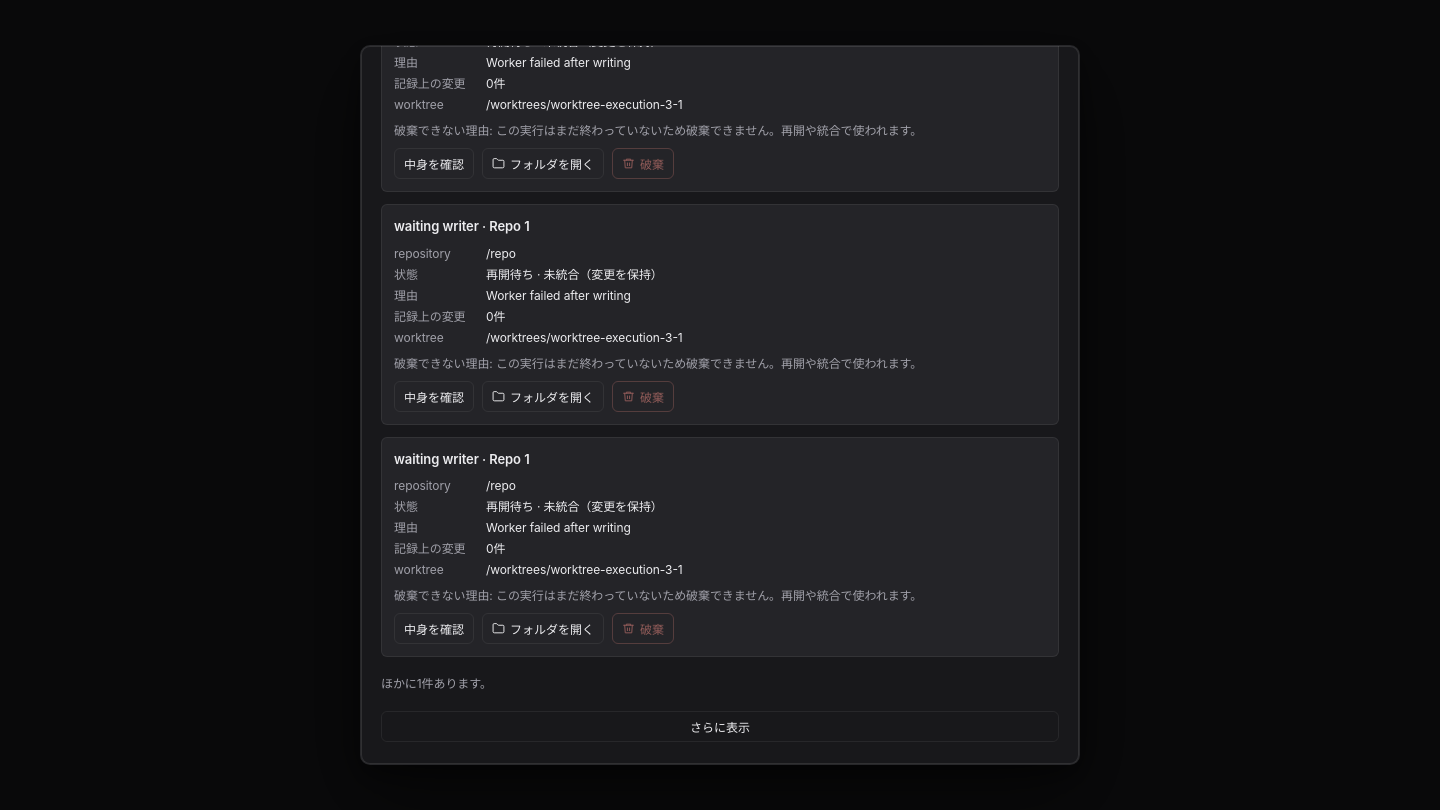
Scenario: retained worktree pagination (#966) › retains rows and retry cursor after a failed additional page
(page scrolled)
Click the button with test id "team-retained-load-more": (720, 726) [381,711,1059,742]
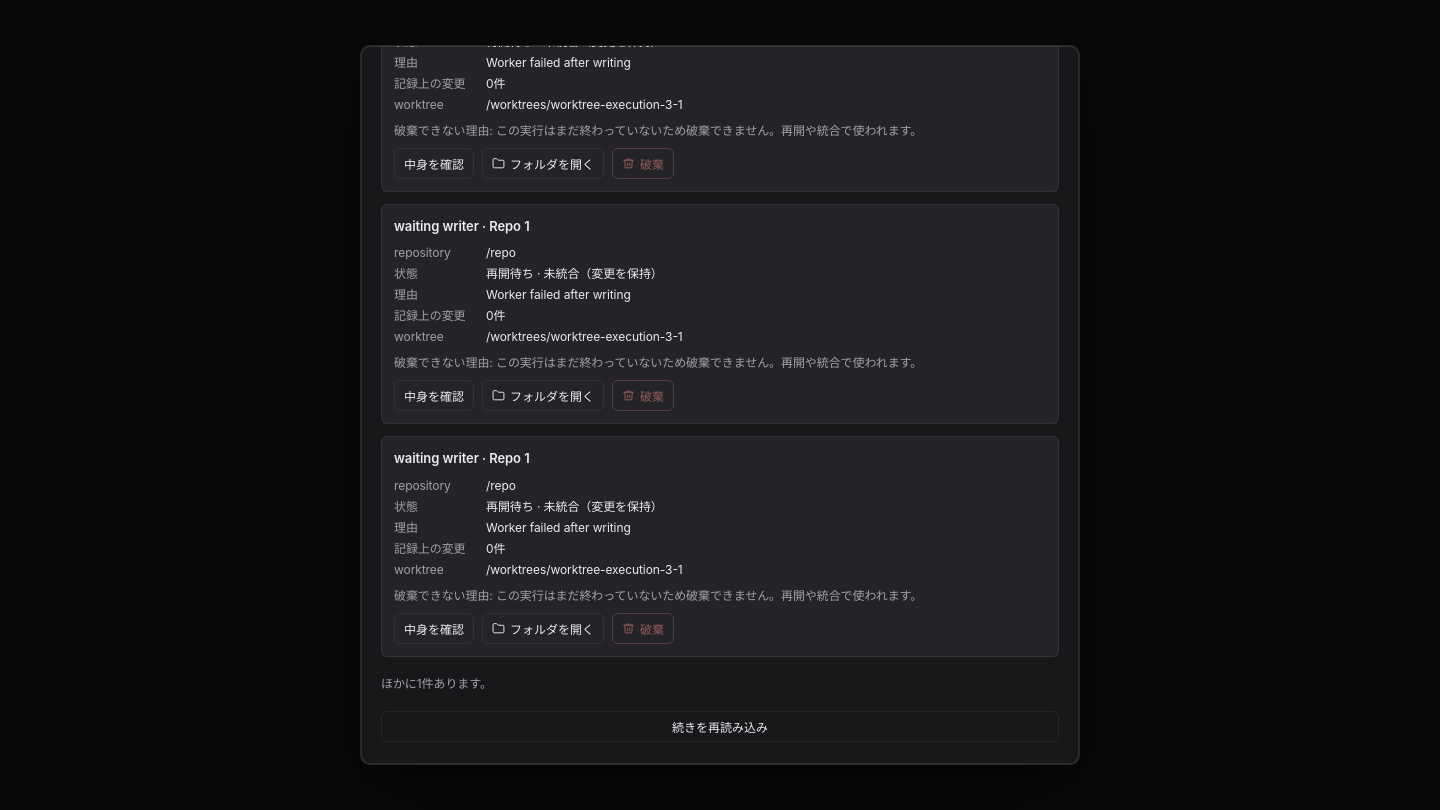
Click the button with test id "team-retained-load-more": (720, 726) [381,711,1059,742]
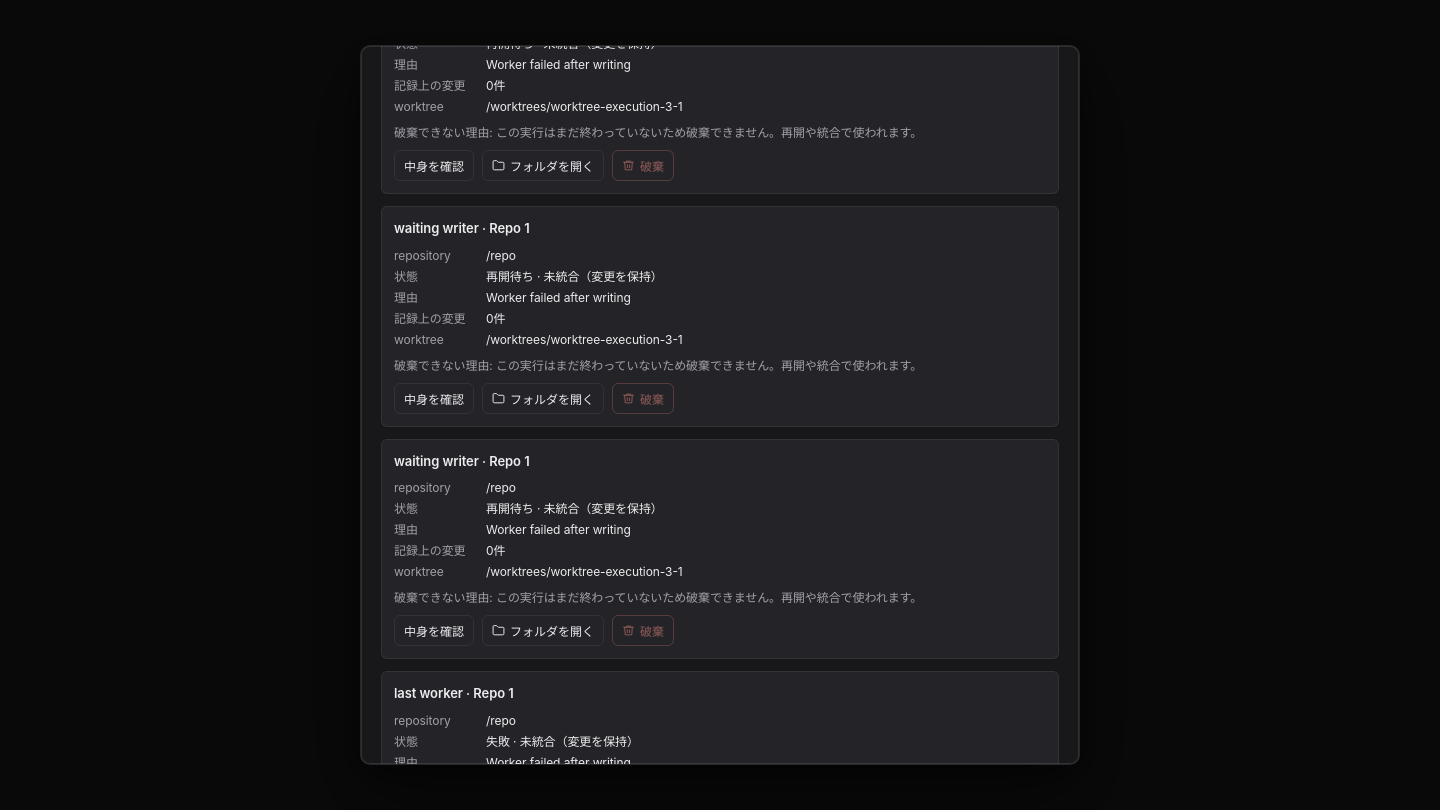
Now the text "last worker" is shown, box [394,685,514,701]
